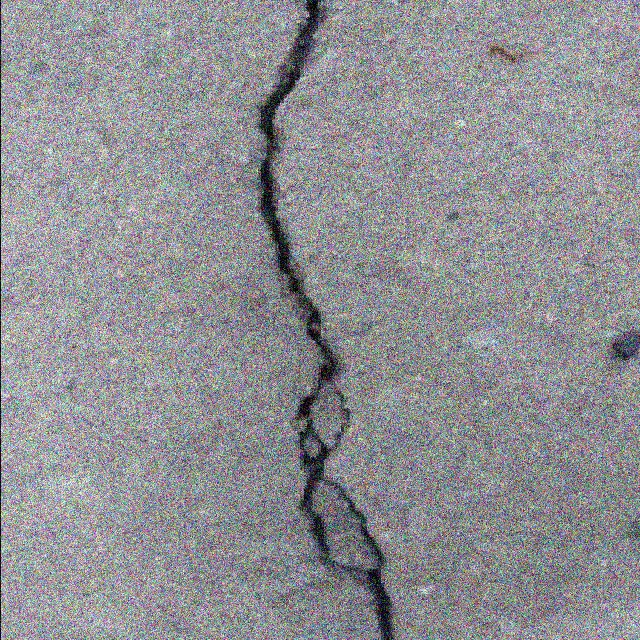SurfaceCrack: (220, 0, 448, 640)
